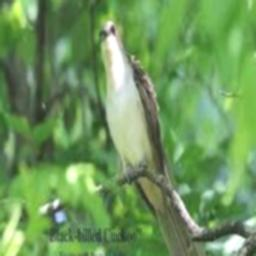Cuckoo: (99, 21, 223, 256)
